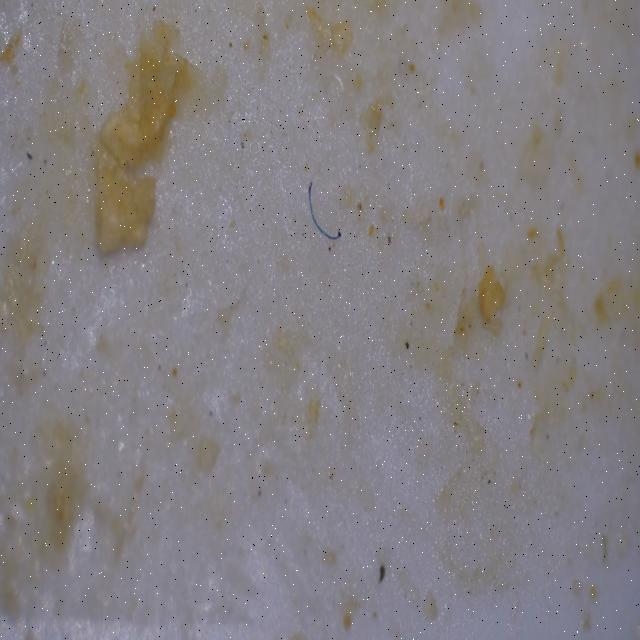fibers: (295, 180, 343, 244)
